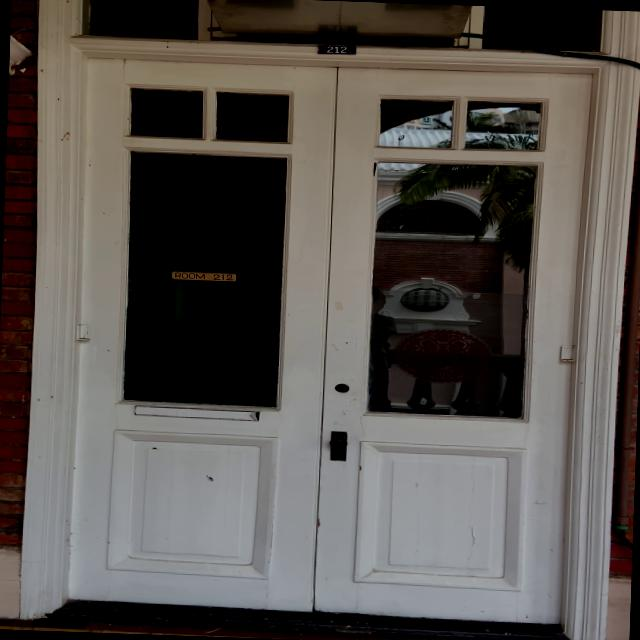room212: (316, 40, 358, 56)
room212Window: (169, 266, 245, 286)
